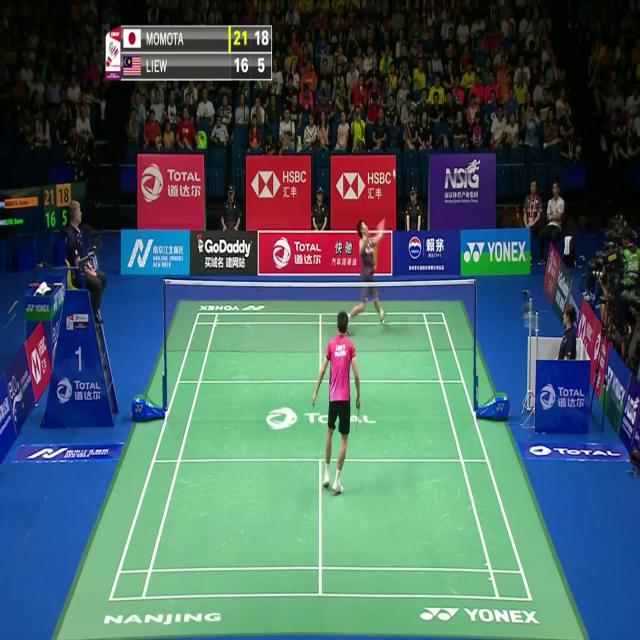Shuttlecock: (391, 168, 397, 179)
